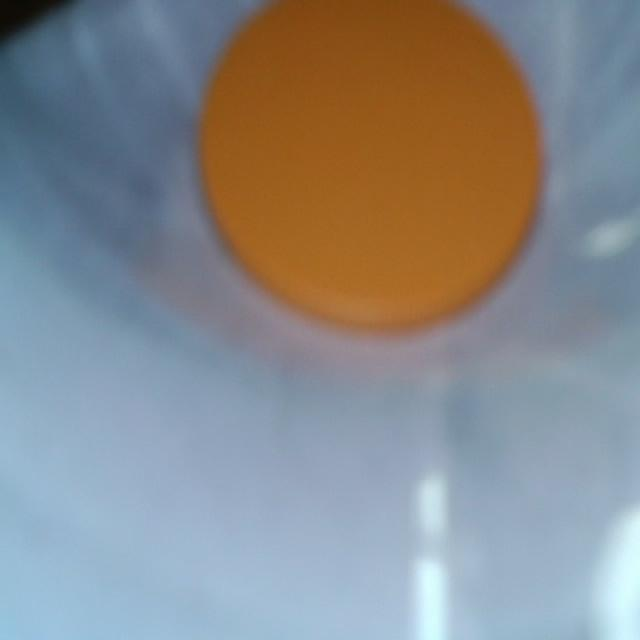circle: (199, 0, 541, 327)
